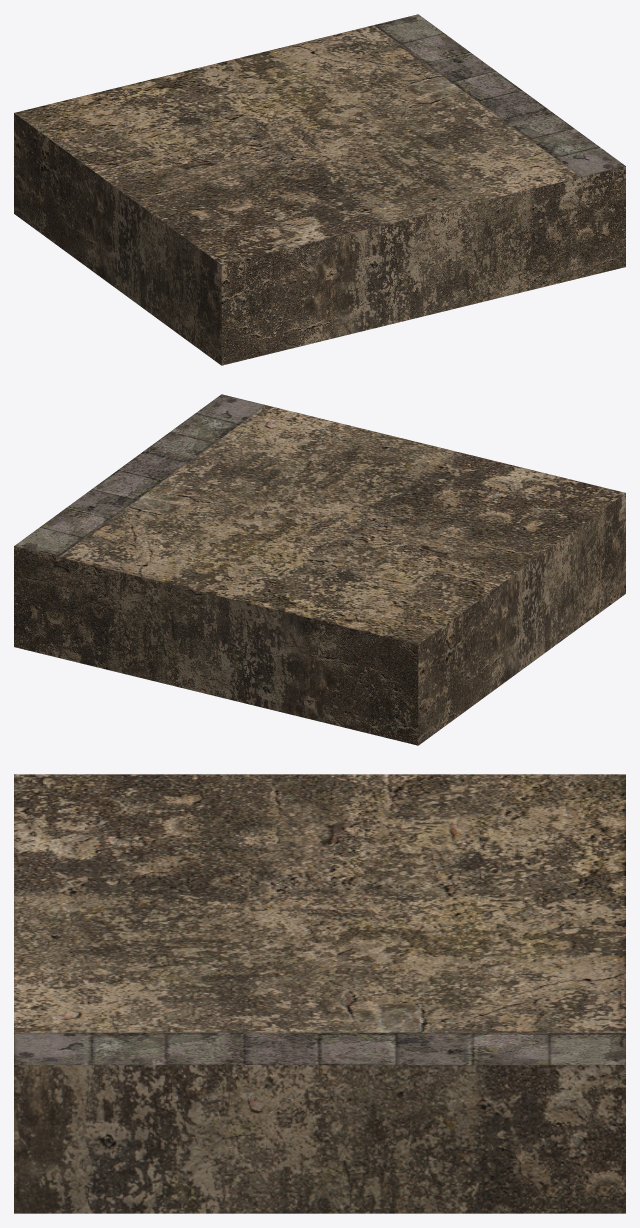
The model's file is materials_5_floor_rectangle_11.fbx.
The picture shows the model from 3 angles, top to bottom: view 1: azimuth 30°, elevation 25°; view 2: azimuth 150°, elevation 25°; view 3: azimuth 270°, elevation 25°; orthographic projection. The views are drawn at different scales.
Parts seen in each view (by area): view 1: materials_5_floor_rectangle_11; view 2: materials_5_floor_rectangle_11; view 3: materials_5_floor_rectangle_11.
Part boxes in pixels (x1=…): materials_5_floor_rectangle_11: x1=14, y1=14, x2=625, y2=365; materials_5_floor_rectangle_11: x1=14, y1=394, x2=625, y2=745; materials_5_floor_rectangle_11: x1=14, y1=774, x2=625, y2=1213.
Bounding box in the file's own units: 180 × 42.89 × 160.
